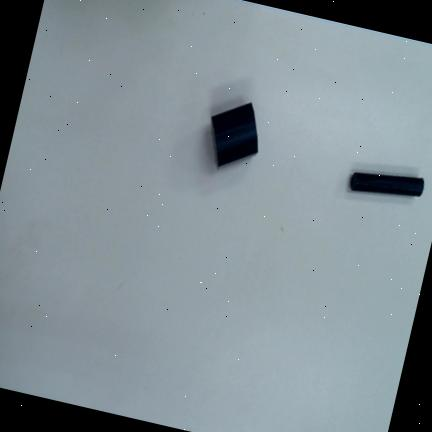Cilindro: (350, 172, 424, 197)
Prisma_hexagonal: (210, 103, 258, 169)
